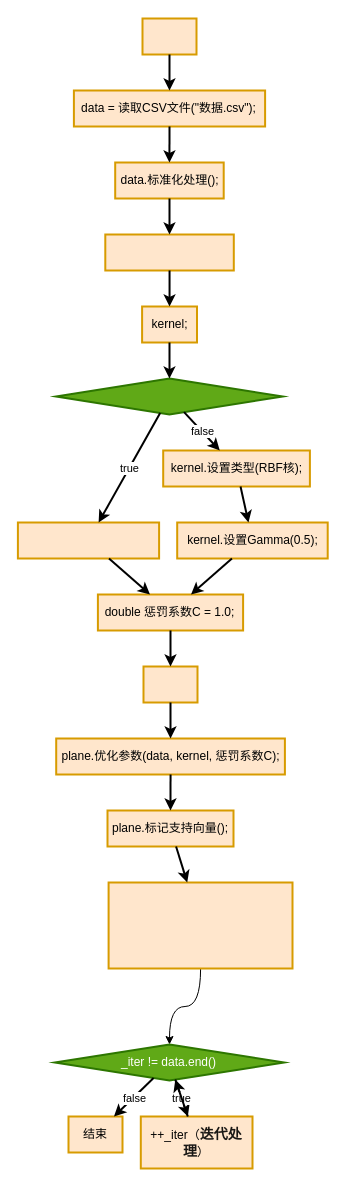
Image size: 346x1186. Some labels were removed from this diagram. Each missing label, with the centre of its shape:
(数据线性可分(data): the point at 168,396
_iter = data.begin() 初始化数据遍历，指向数据集中的第一个样本: the point at 200,925
data.分配标签(+1/-1);: the point at 169,252
kernel.设置类型(线性核);: the point at 88,540
plane;: the point at 170,684
SVM: the point at 169,36
